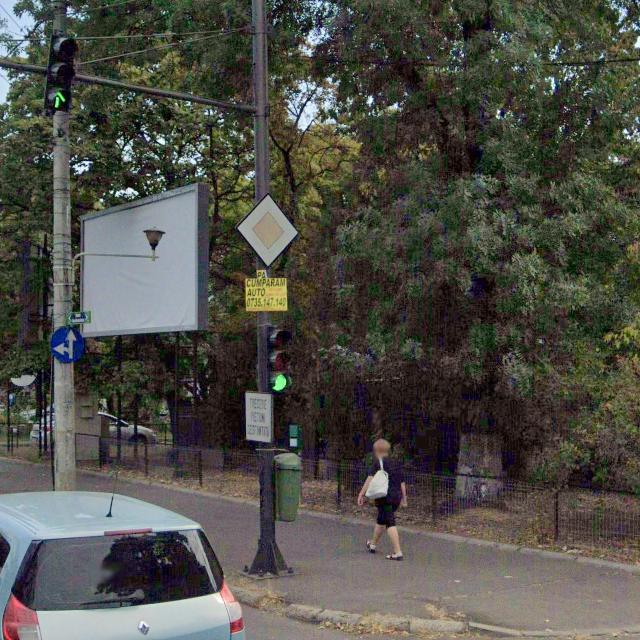mand_straigh_left: (50, 325, 86, 364)
prio_priority_road: (236, 193, 298, 270)
